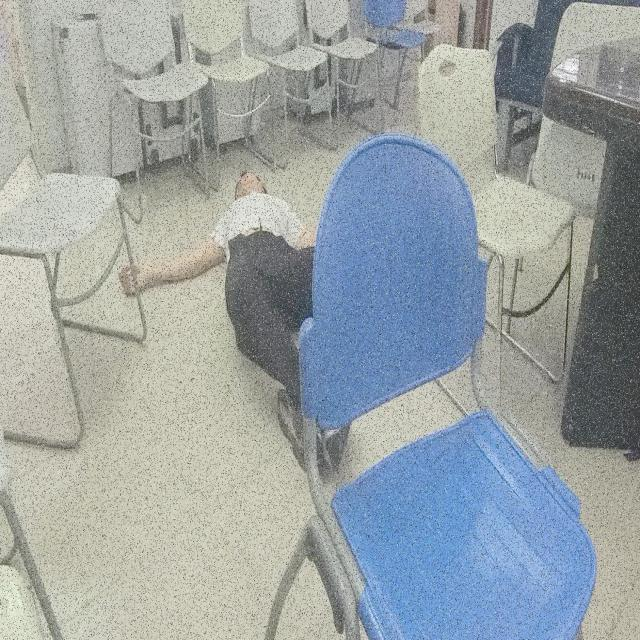fall: (116, 165, 354, 480)
